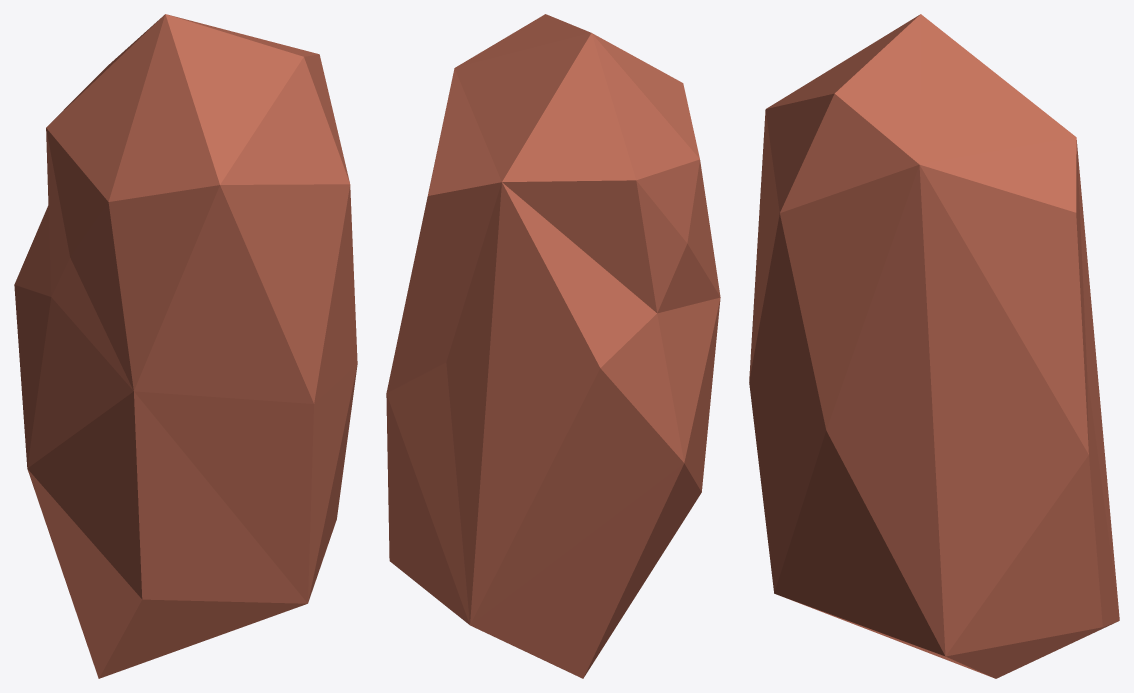
The model's file is boulder_006.fbx.
3 views of the same model, side by side, from view 1: azimuth 30°, elevation 25°; view 2: azimuth 150°, elevation 25°; view 3: azimuth 270°, elevation 25° (orthographic). The views are drawn at different scales.
Visible parts, largest first — view 1: boulder_006; view 2: boulder_006; view 3: boulder_006.
Boxes of the visible parts, box(x1,y1,x2,y2) form: boulder_006: box(14, 14, 357, 678); boulder_006: box(386, 14, 720, 678); boulder_006: box(749, 14, 1119, 678).
Bounding box in the file's own units: 409 × 435 × 879.
